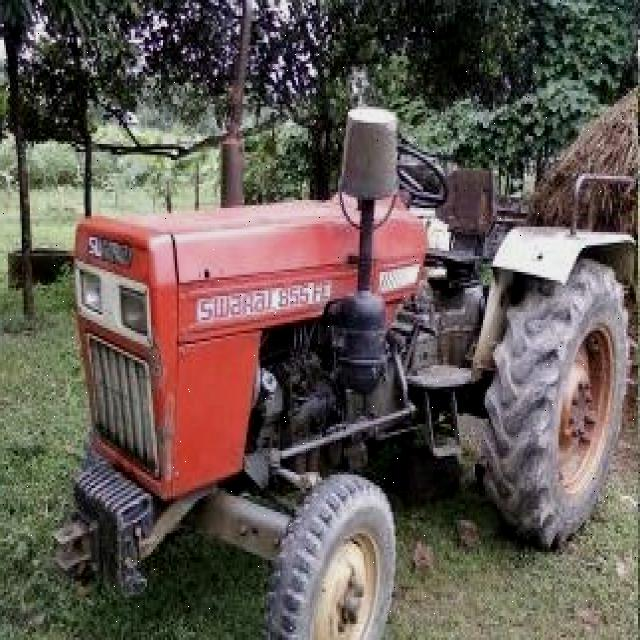Tratores - v5 YOLO V8L 2024-11-13: (65, 86, 640, 640)
